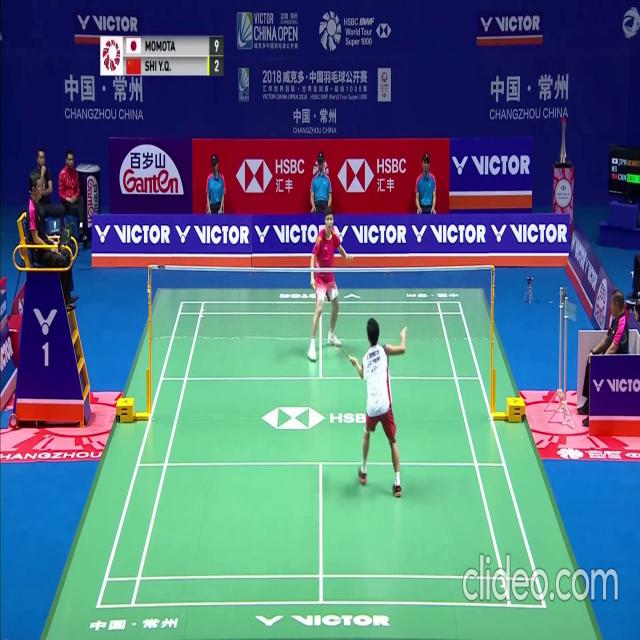Shuttlecock: (331, 290, 336, 298)
